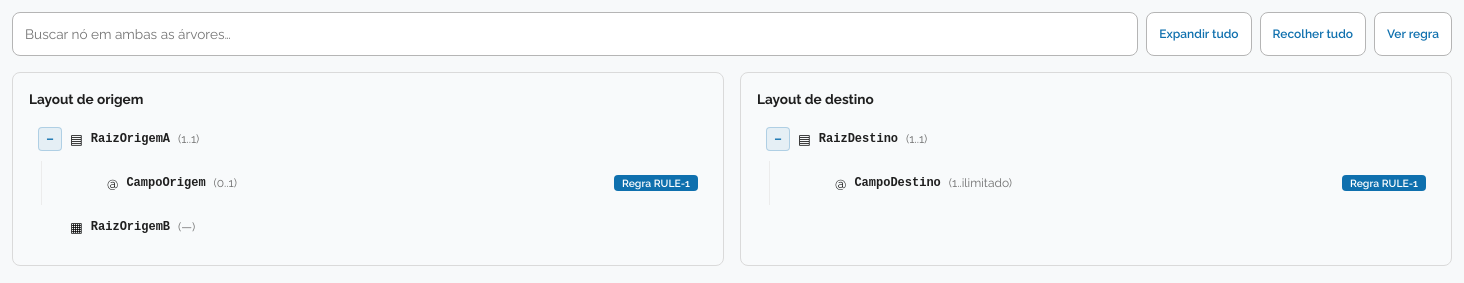
MappingLayoutTreeView › filtra nós por nome em ambas as árvores via busca
The width and height of the screenshot is (1464, 283).
Type "CampoOrigem" into the search field named "Buscar nó nas árvores de origem e destino".
click(575, 34); type("CampoOrigem")  # box 12,12 -> 1138,56
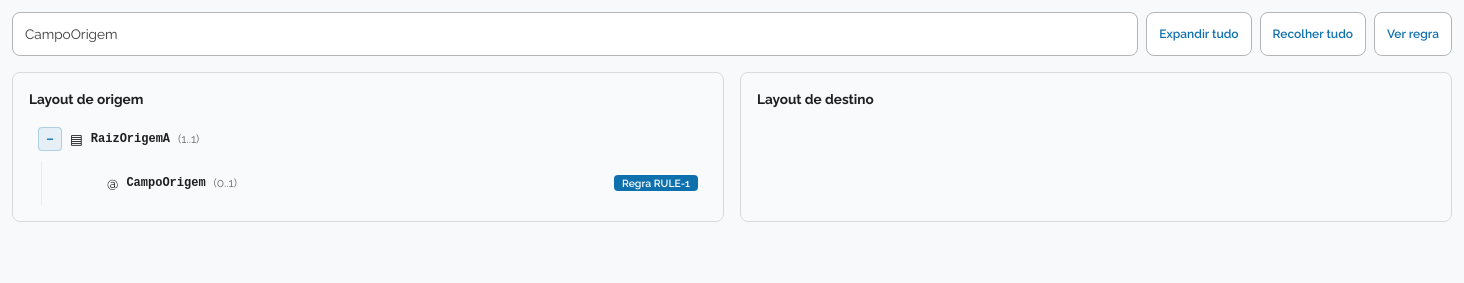
Now the list item "RaizOrigemB" is gone
Now the list item "RaizDestino" is gone
Now the list item "CampoDestino" is gone
